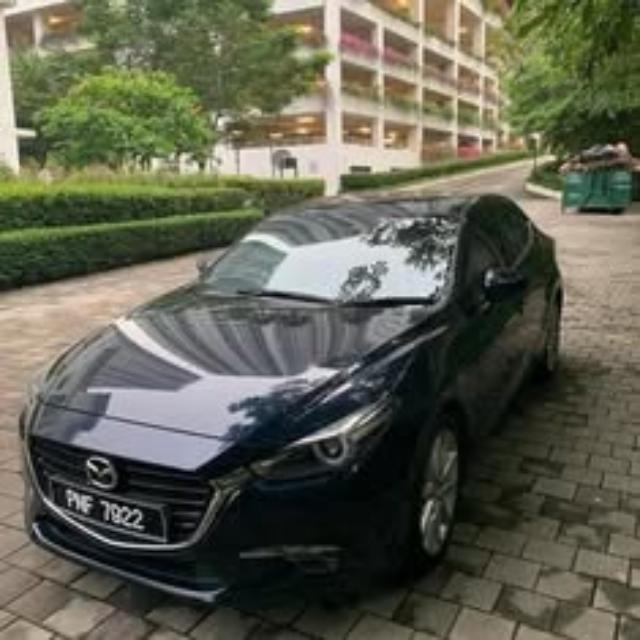License_Plate: (45, 473, 170, 546)
car: (18, 193, 565, 606)
